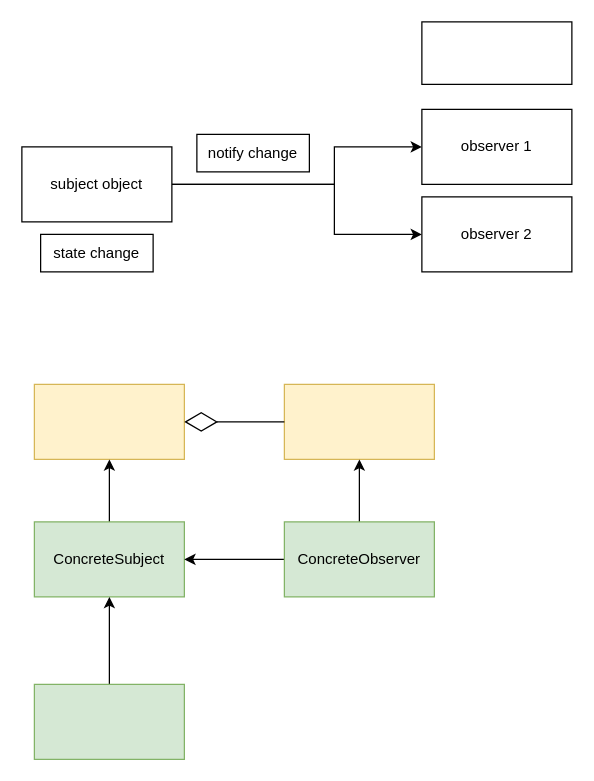
Some shapes in this 594 by 781 pixel diagram are drawn without their labels. The shapes that lost their labels are listed below. From the top down, each one's centre as x and y in pixels, then its label:
At pixel 496 52: "observer registered with subject".
At pixel 108 421: "Subject".
At pixel 358 421: "Observer".
At pixel 108 721: "Client".
